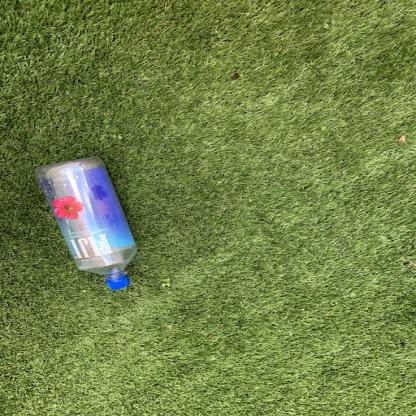trash: (34, 156, 142, 293)
